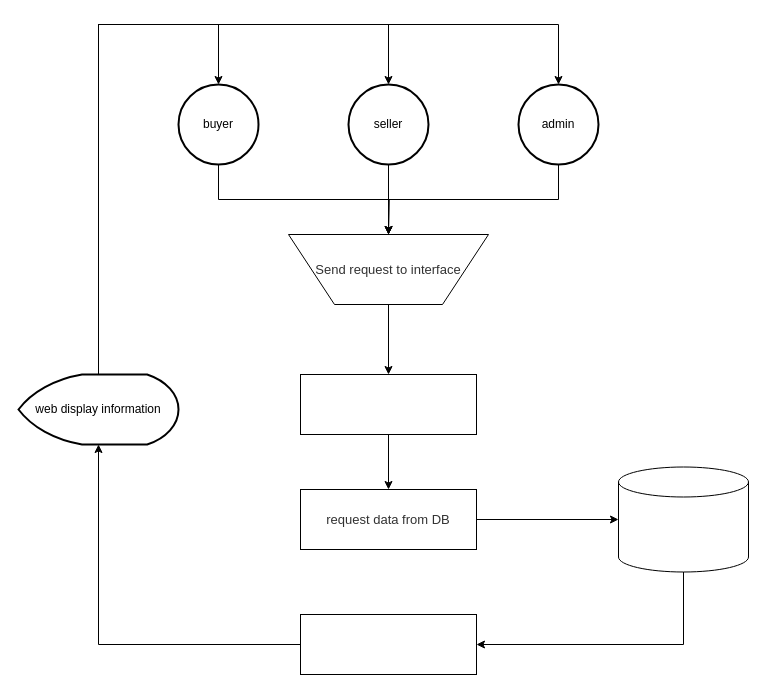
Image size: 766x692. Some labels were removed from this diagram. Here are the shapes that lost their labels. From the top down, the box of each, then its label:
(300, 374, 476, 434): parse request
(618, 466, 748, 572): MySQL DB
(300, 614, 476, 674): get specufuc information
